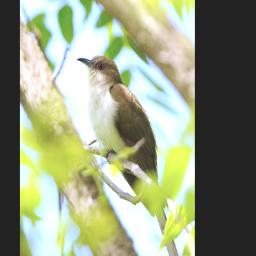Cuckoo: (76, 53, 189, 256)
